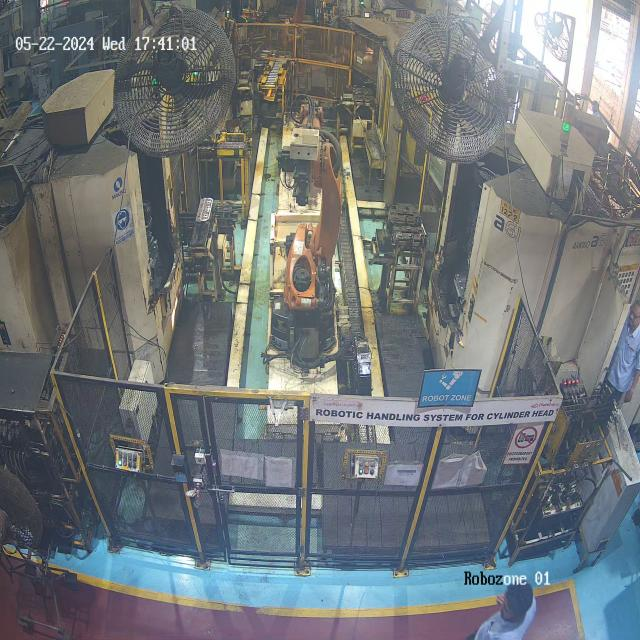person: (469, 568, 542, 640), (605, 298, 640, 407)
